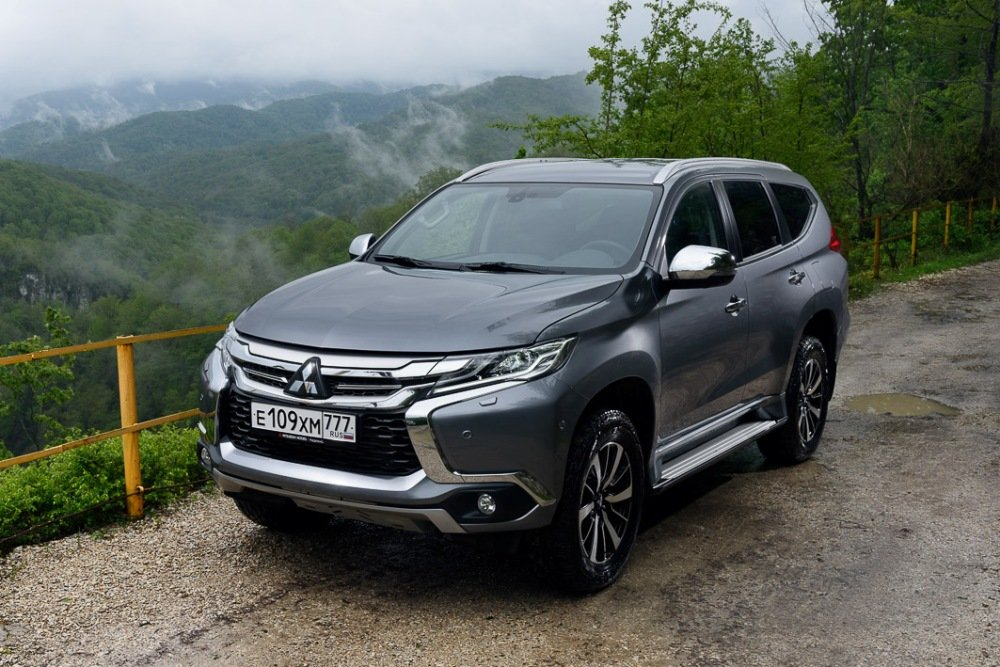pickup: (192, 150, 854, 598)
